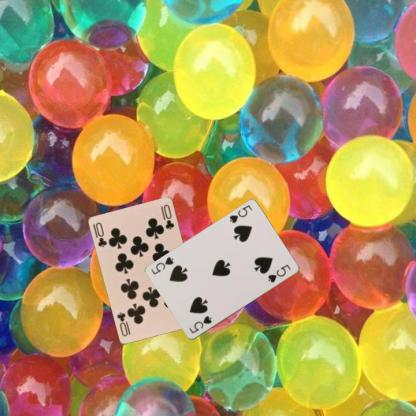10c: (93, 220, 108, 249)
5s: (227, 202, 253, 225), (187, 313, 213, 335)
